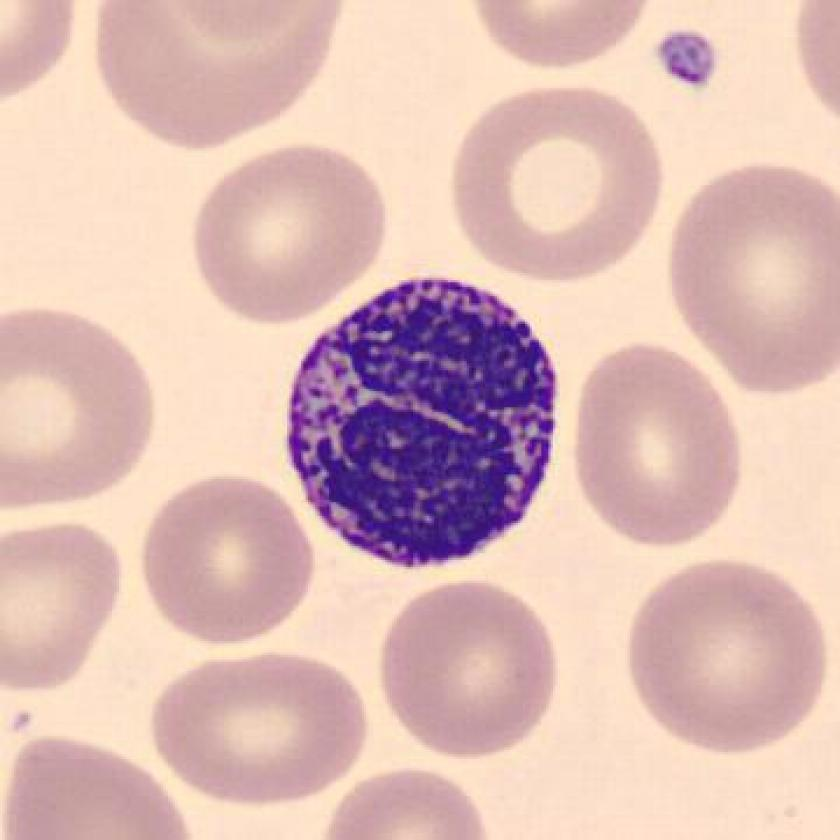basophil: (272, 262, 570, 589)
